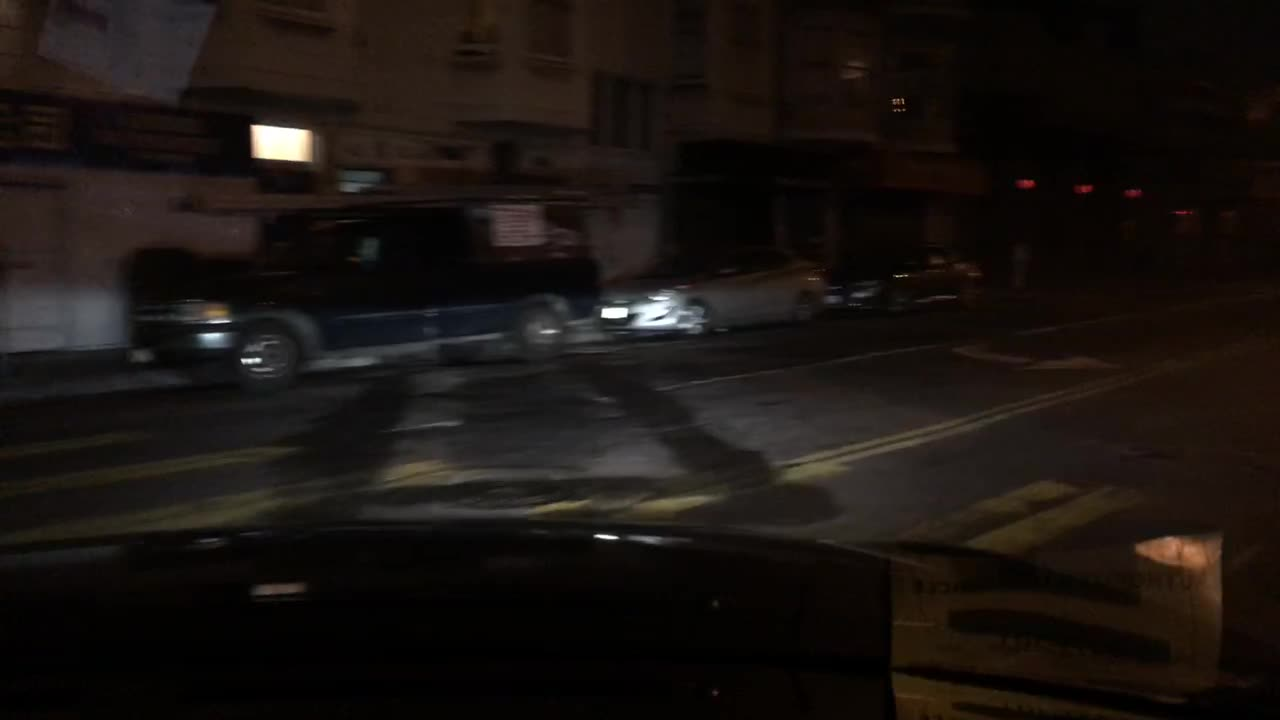car: (123, 195, 604, 390), (596, 231, 825, 339), (818, 240, 984, 317)
traffic light: (1017, 177, 1037, 194), (1173, 205, 1193, 219), (1075, 180, 1095, 193), (1124, 185, 1142, 198)
